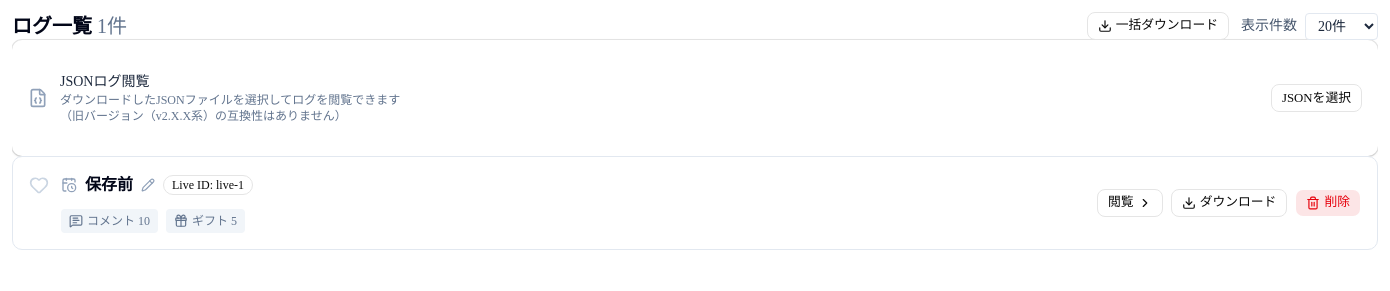
Scenario: LogListPage › 処理中の表示 › タイトルの保存中は状態を表示し、失敗後に再編集できる
Click the button named "タイトルを編集".
click(148, 185)  # box x1=141 y1=178 x2=155 y2=192
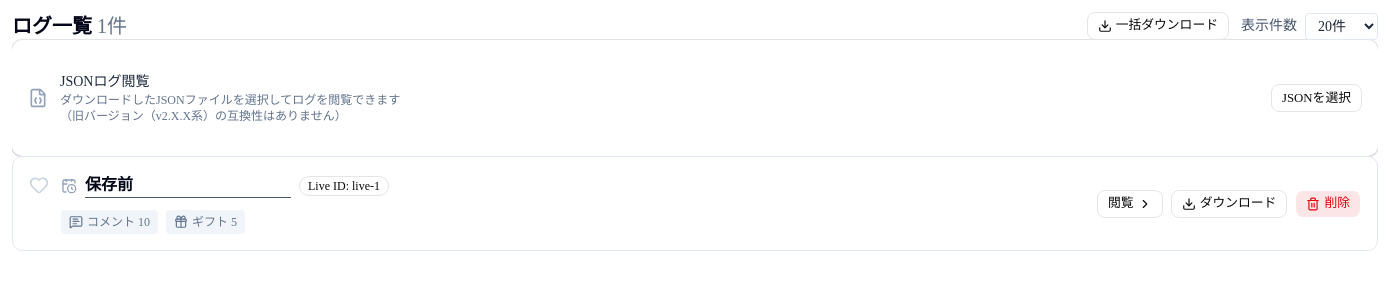
Replace the text in the field with "保存後" at x=188, y=186, box x1=85 y1=173 x2=291 y2=198
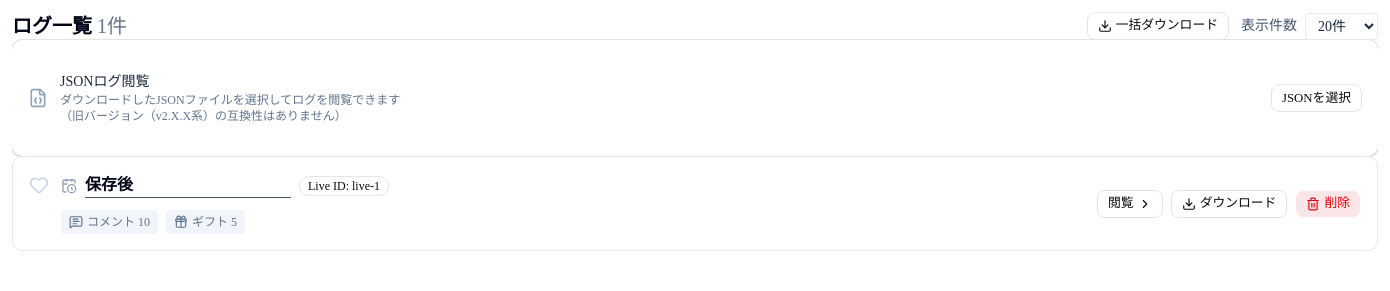
Leave the field, box x1=85 y1=173 x2=291 y2=198
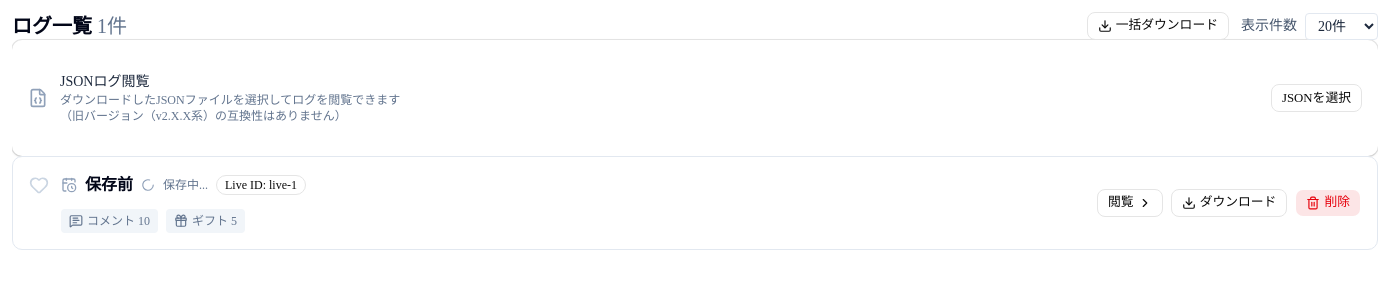
Now the message reads "保存中...", box x1=163 y1=178 x2=208 y2=192
Now the button named "タイトルを編集" is disabled
Click the button named "タイトルを編集".
click(148, 185)  # box x1=141 y1=178 x2=155 y2=192
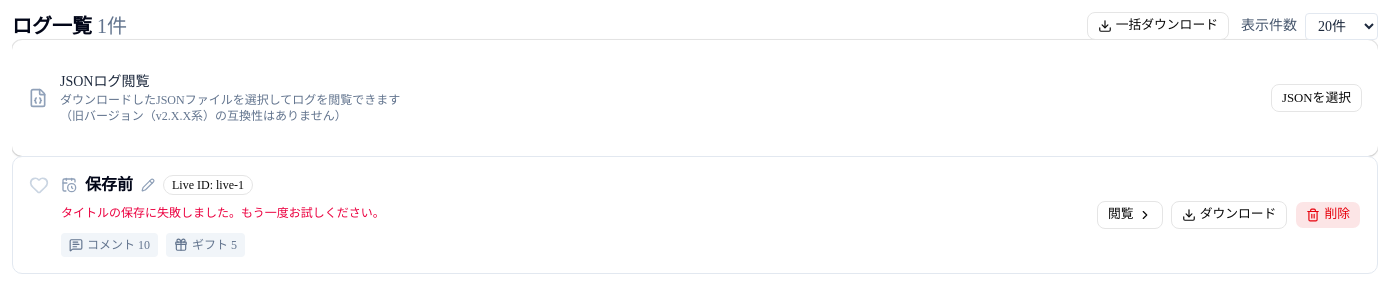
Now the text "保存前" is shown, box x1=85 y1=173 x2=133 y2=197
Now the message shows "タイトルの保存に失敗しました", box x1=61 y1=206 x2=385 y2=220
Now the button named "タイトルを編集" is enabled
Click the button named "タイトルを編集".
click(148, 185)  # box x1=141 y1=178 x2=155 y2=192
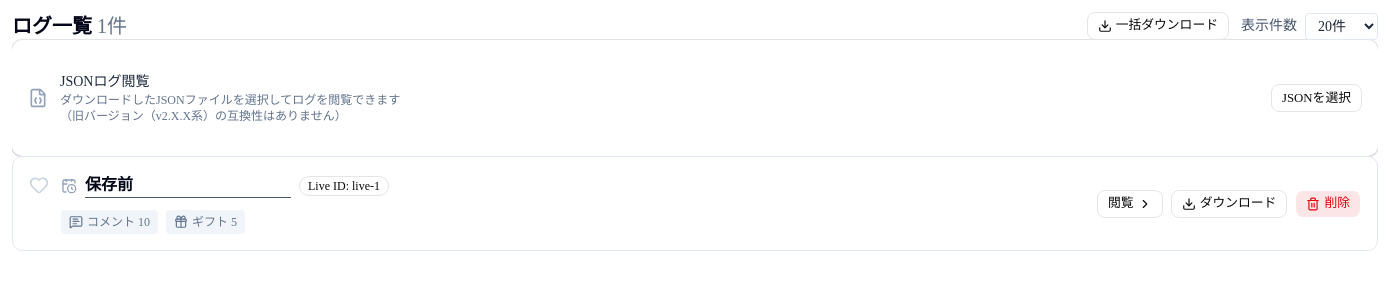
Now the field is shown, box x1=85 y1=173 x2=291 y2=198
